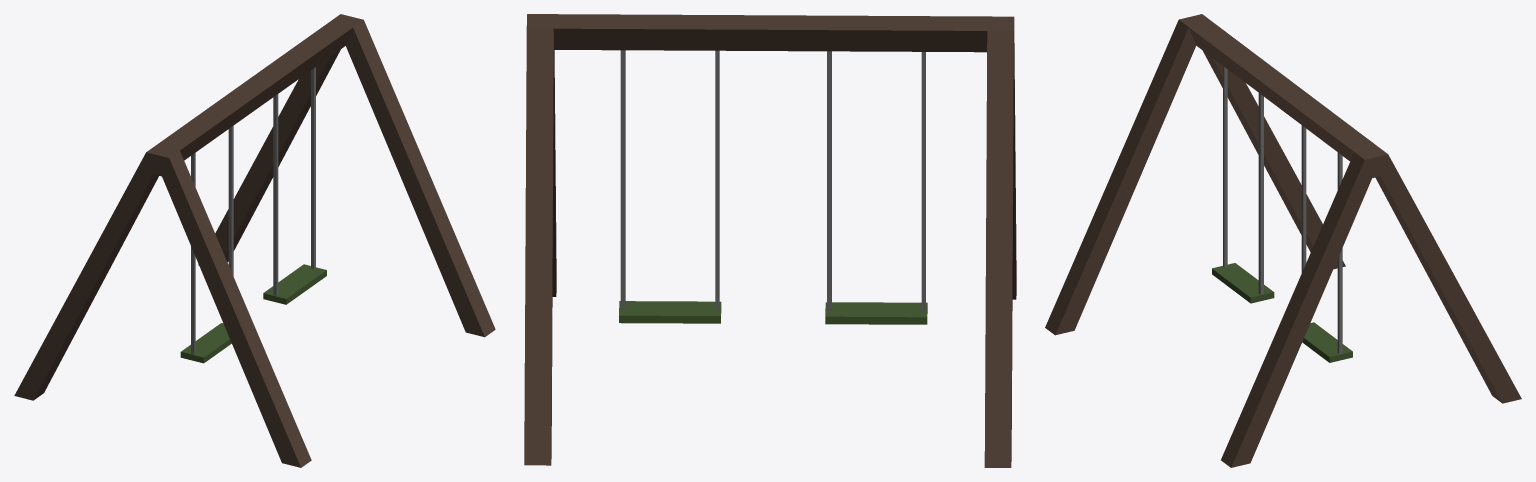
File: Swing.fbx
The picture shows the model from 3 angles, left to right: view 1: azimuth 30°, elevation 25°; view 2: azimuth 150°, elevation 25°; view 3: azimuth 270°, elevation 25°; orthographic projection. The views are drawn at different scales.
Visible parts, largest first — view 1: Swing; view 2: Swing; view 3: Swing.
Part boxes in pixels (<box>): Swing: <box>14,14,495,467</box>; Swing: <box>524,14,1016,467</box>; Swing: <box>1045,14,1521,467</box>.
Bounding box in the file's own units: 919 × 885 × 566.
